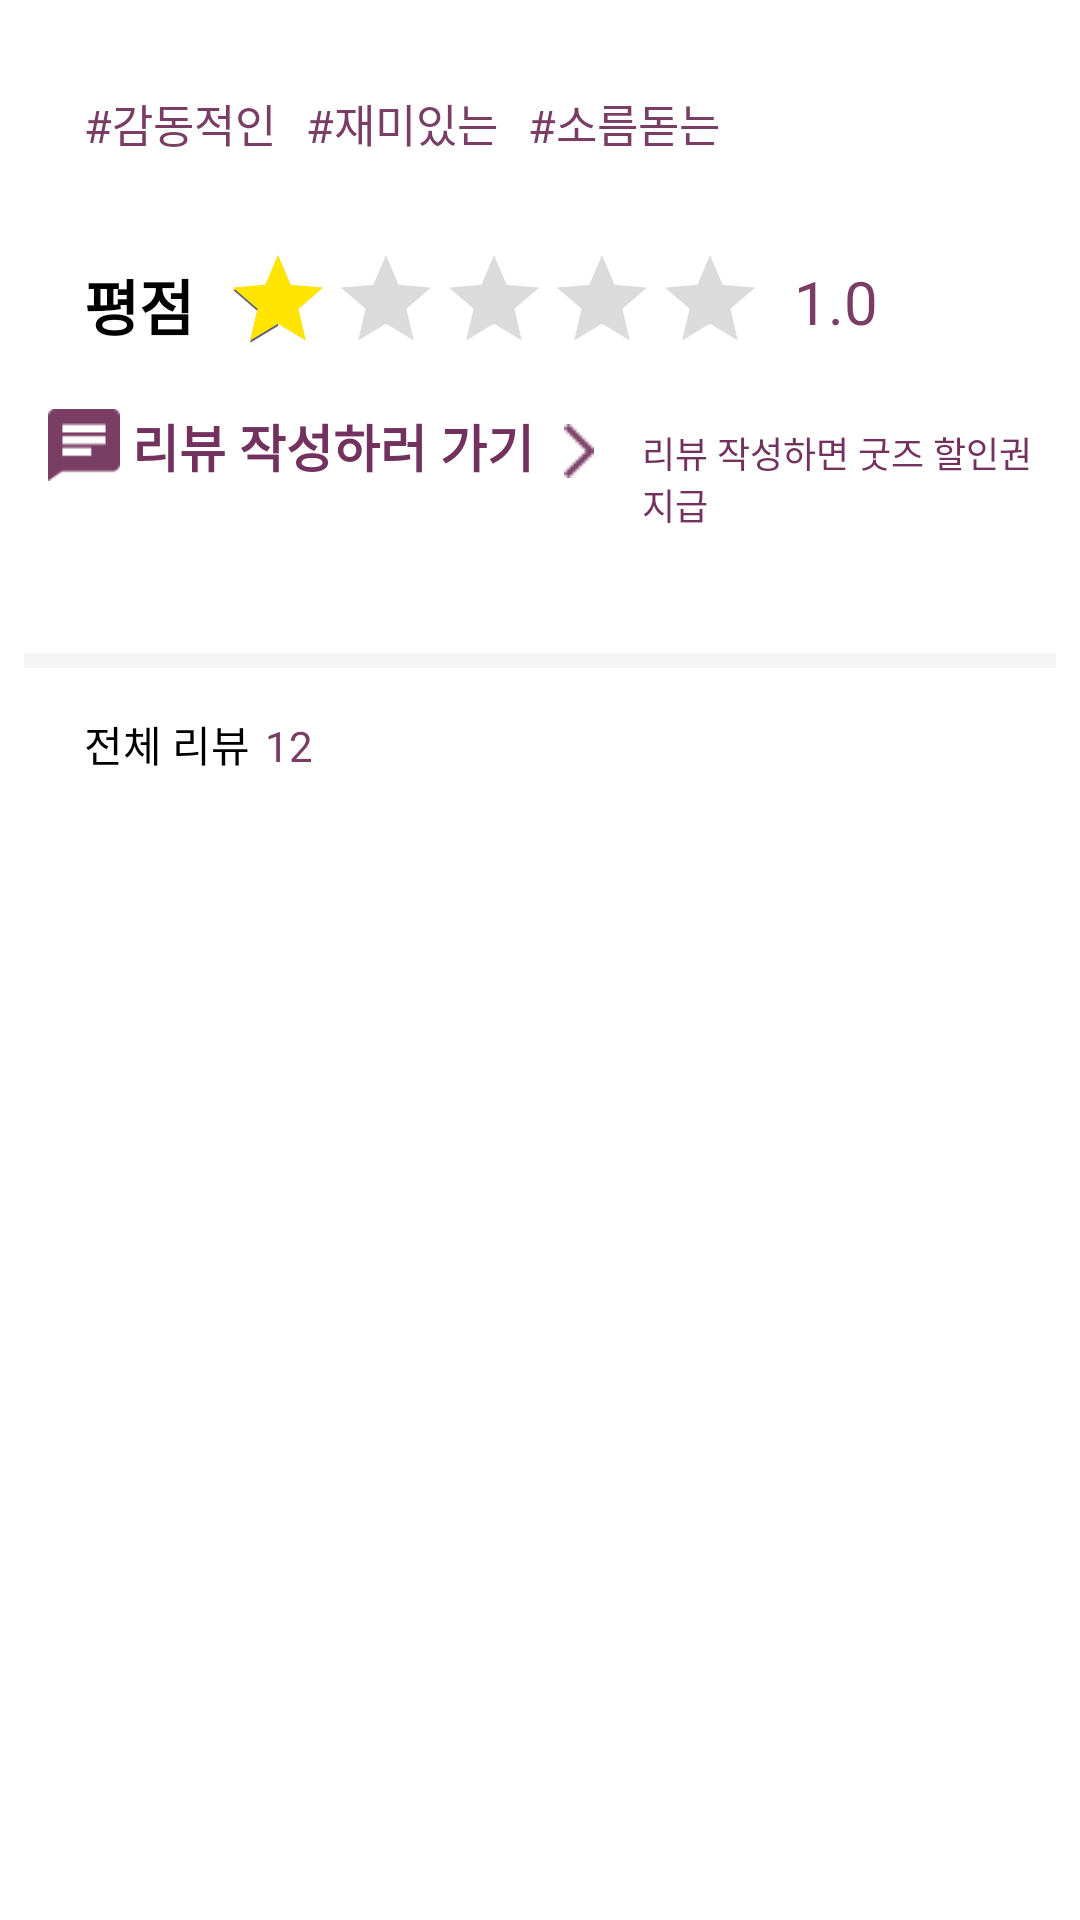

Named icons in this screenshot (1080px x 1920px) and their bounding boxes, [x1, y1, x2, y2]:
arrow right: [564, 424, 594, 478]
